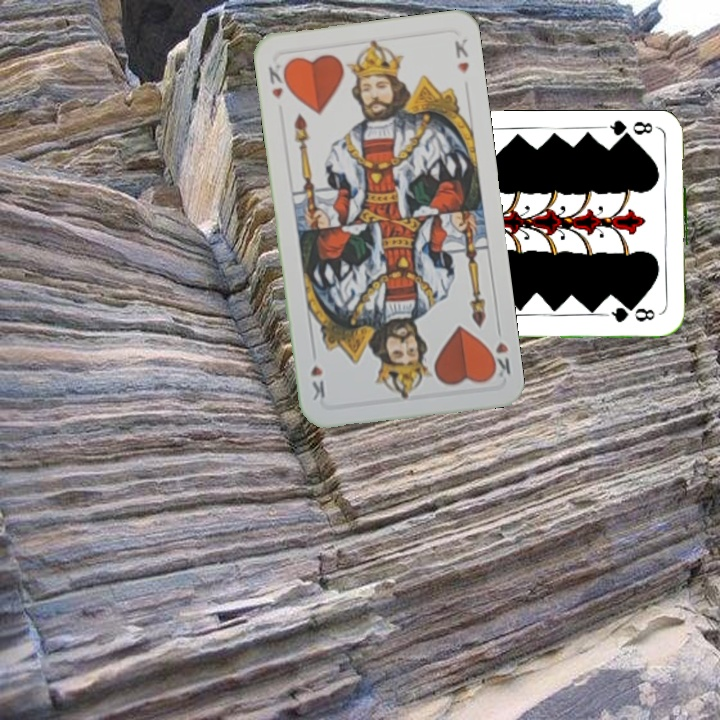G8: (602, 117, 661, 144)
HK: (484, 321, 514, 381), (264, 59, 292, 102)
